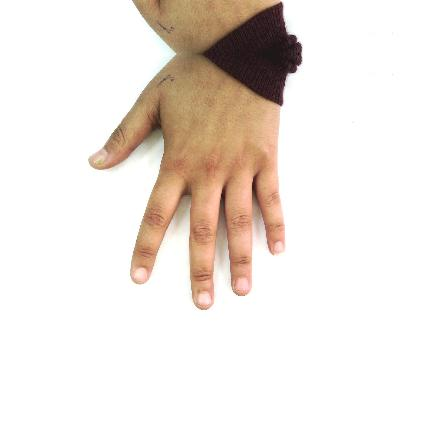Nail: (89, 148, 108, 164), (197, 291, 213, 306), (133, 268, 148, 283), (234, 277, 250, 291), (273, 241, 285, 256)
